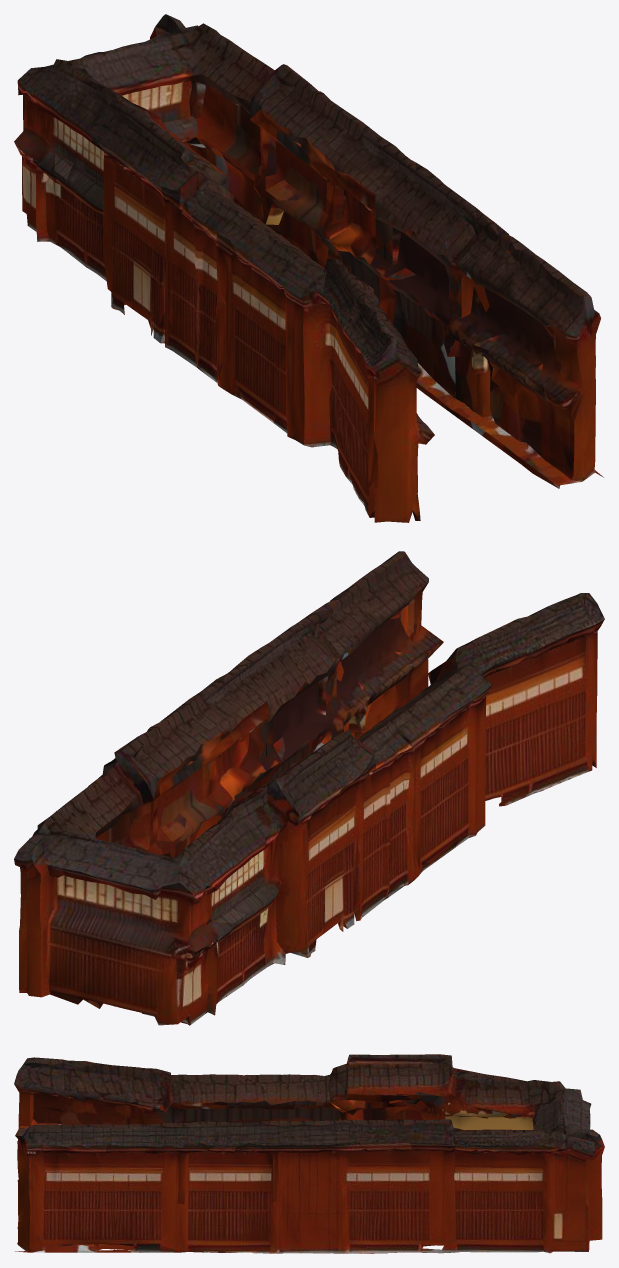
Rendered from higashi-chaya.glb.
3 renders of one model, top to bottom at view 1: azimuth 30°, elevation 25°; view 2: azimuth 150°, elevation 25°; view 3: azimuth 270°, elevation 25°, orthographic. The views are drawn at different scales.
Parts seen in each view (by area): view 1: logan-textured.obj; view 2: logan-textured.obj; view 3: logan-textured.obj.
Part boxes in pixels (<box>): logan-textured.obj: <box>14,14,603,522</box>; logan-textured.obj: <box>14,551,604,1025</box>; logan-textured.obj: <box>14,1054,604,1253</box>.
Bounding box in the file's own units: 0.3157 × 0.2617 × 1.
Materials: 1 (1 with a texture image).
